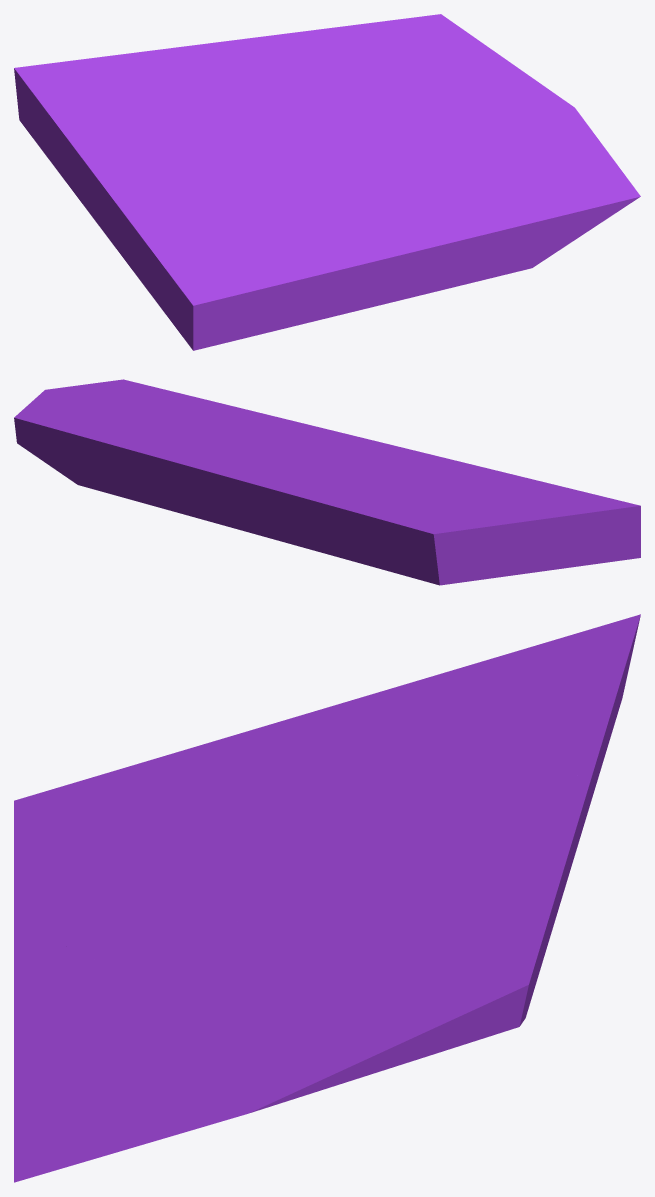
Rendered from Window_157_0_chunks.fbx.
3 renders of one model, top to bottom at view 1: azimuth 30°, elevation 25°; view 2: azimuth 150°, elevation 25°; view 3: azimuth 270°, elevation 25°, orthographic. The views are drawn at different scales.
Parts seen in each view (by area): view 1: Window_157_0_8, Window_157_0_12, Window_157_0_10, Window_157_0_11, Window_157_0_13, Window_157_0_22, Window_157_0_6, Window_157_0_1, Window_157_0_0, Window_157_0_7, Window_157_0_24, Window_157_0_19 (+8 smaller); view 2: Window_157_0_1, Window_157_0_8, Window_157_0_13, Window_157_0_2, Window_157_0_14, Window_157_0_16, Window_157_0_22, Window_157_0_12, Window_157_0_19, Window_157_0_6, Window_157_0_0, Window_157_0_10 (+9 smaller); view 3: Window_157_0_8, Window_157_0_12, Window_157_0_6, Window_157_0_13, Window_157_0_1, Window_157_0_0, Window_157_0_22, Window_157_0_10, Window_157_0_11, Window_157_0_24, Window_157_0_2, Window_157_0_7 (+6 smaller).
Boxes of the visible parts, x1,y1,x2,y2 form: Window_157_0_8: (146,192,393,350); Window_157_0_12: (349,99,598,193); Window_157_0_10: (477,143,640,281); Window_157_0_11: (374,182,515,290); Window_157_0_13: (14,54,211,125); Window_157_0_22: (23,100,187,180); Window_157_0_6: (401,29,563,123); Window_157_0_1: (320,14,462,103); Window_157_0_0: (222,70,392,139); Window_157_0_7: (294,140,437,308); Window_157_0_24: (174,118,328,184); Window_157_0_19: (72,162,199,247); Window_157_0_1: (14,413,192,514); Window_157_0_8: (393,449,640,560); Window_157_0_13: (316,486,461,584); Window_157_0_2: (99,441,263,513); Window_157_0_14: (268,503,443,585); Window_157_0_16: (186,469,323,537); Window_157_0_22: (381,495,519,584); Window_157_0_12: (79,386,271,450); Window_157_0_19: (477,496,585,570); Window_157_0_6: (19,392,170,434); Window_157_0_0: (185,437,351,483); Window_157_0_10: (77,379,267,419); Window_157_0_8: (14,751,243,971); Window_157_0_12: (104,917,360,1139); Window_157_0_6: (245,960,518,1105); Window_157_0_13: (410,614,640,794); Window_157_0_1: (354,885,555,1026); Window_157_0_0: (308,804,485,952); Window_157_0_22: (322,639,556,777); Window_157_0_10: (14,1048,154,1182); Window_157_0_11: (14,948,159,1075); Window_157_0_24: (226,761,440,900); Window_157_0_2: (469,764,595,918); Window_157_0_7: (14,876,308,980).
Size of the model in its own units: 1043 by 337 by 722.
